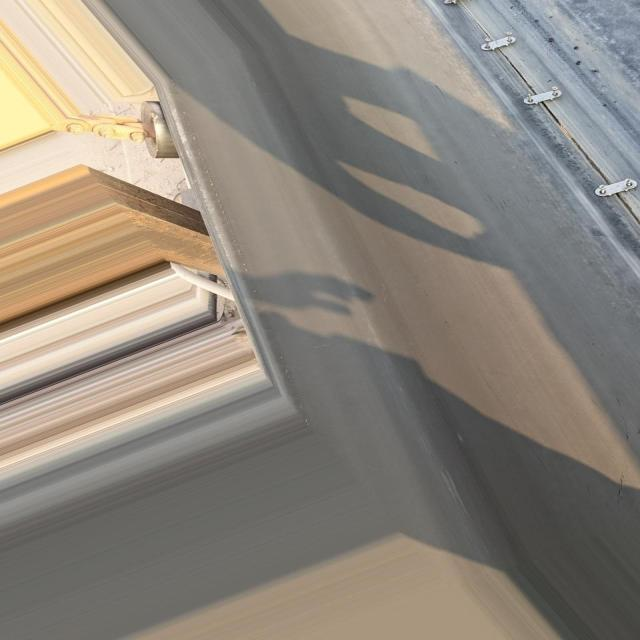Roller: (145, 100, 185, 159)
patch work: (430, 0, 640, 273)
